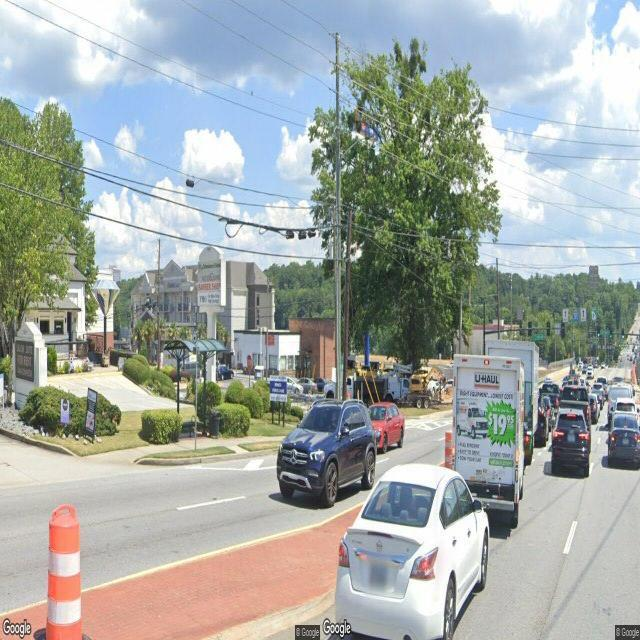seating: (180, 416, 196, 438)
shelter: (163, 338, 227, 438)
trash_can: (210, 408, 220, 438)
